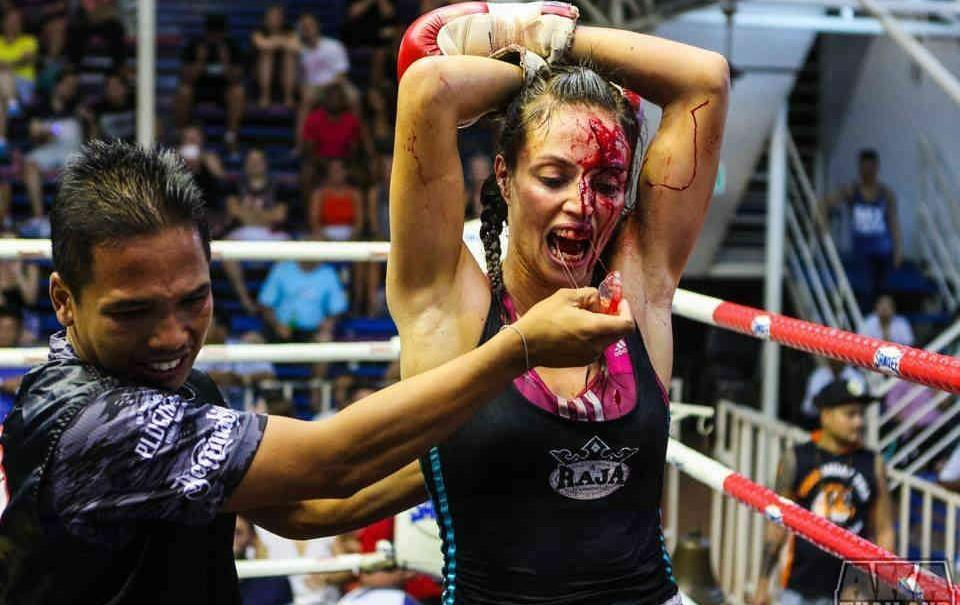Fire: (573, 106, 634, 284), (647, 98, 710, 190), (405, 119, 430, 188)
